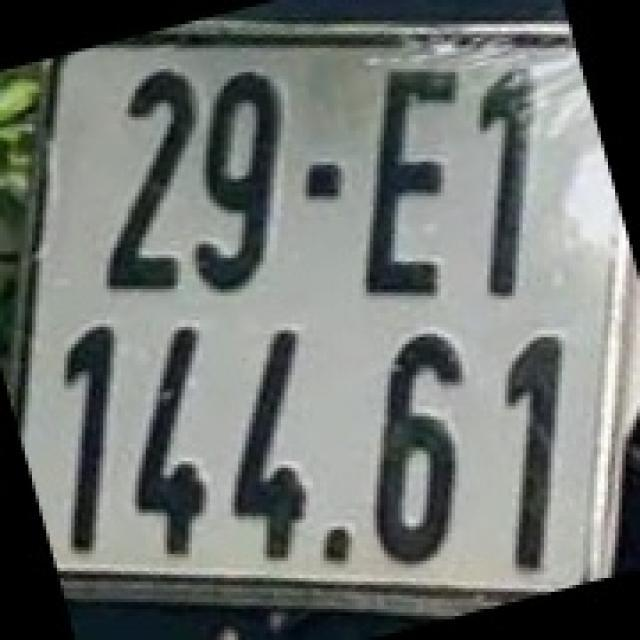1: (491, 330, 576, 575), (470, 58, 554, 303), (54, 320, 124, 558)
2: (100, 65, 192, 296)
4: (228, 323, 316, 564), (132, 323, 214, 561)
6: (366, 330, 466, 568)
9: (192, 69, 284, 292)
E: (359, 55, 459, 303)
